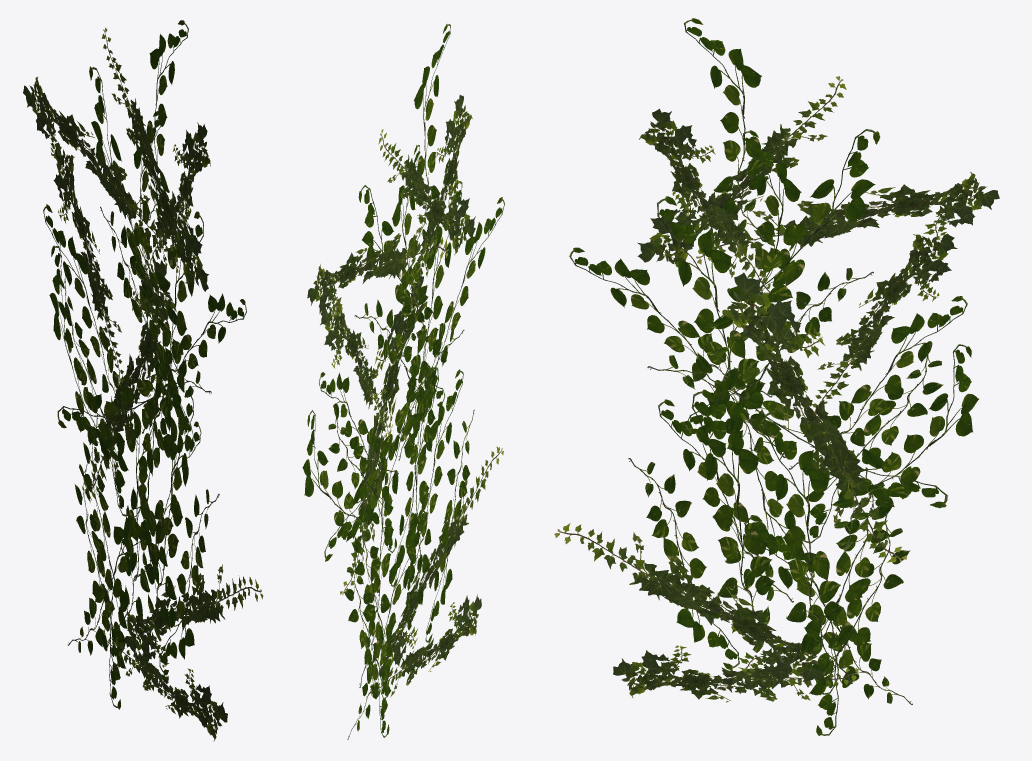
Rendered from SM_Prop_Ivy_Flat_Small.fbx.
3 renders of one model, left to right at view 1: azimuth 30°, elevation 25°; view 2: azimuth 150°, elevation 25°; view 3: azimuth 270°, elevation 25°, orthographic. The views are drawn at different scales.
Visible parts, largest first — view 1: SM_Prop_Ivy_Flat_Small_LOD0; view 2: SM_Prop_Ivy_Flat_Small_LOD0; view 3: SM_Prop_Ivy_Flat_Small_LOD0.
Boxes of the visible parts, left/top/right/bottom form: SM_Prop_Ivy_Flat_Small_LOD0: left=23, top=20, right=263, bottom=741; SM_Prop_Ivy_Flat_Small_LOD0: left=302, top=24, right=504, bottom=739; SM_Prop_Ivy_Flat_Small_LOD0: left=554, top=18, right=999, bottom=735.
Bounding box in the file's own units: 7.61 × 158 × 267.
1 material, 1 textured.
